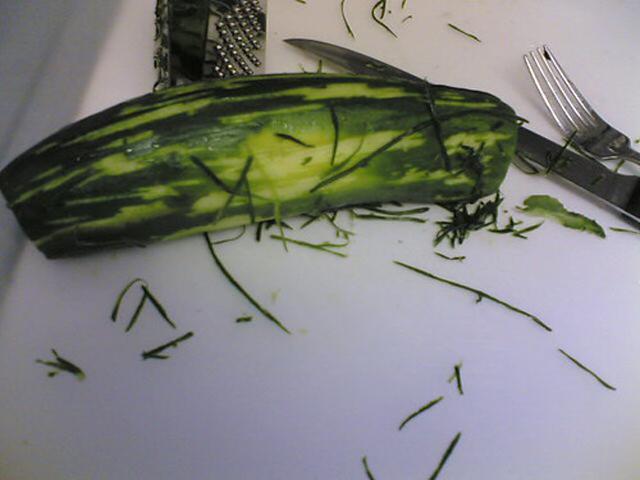cucumber: (3, 73, 518, 260)
